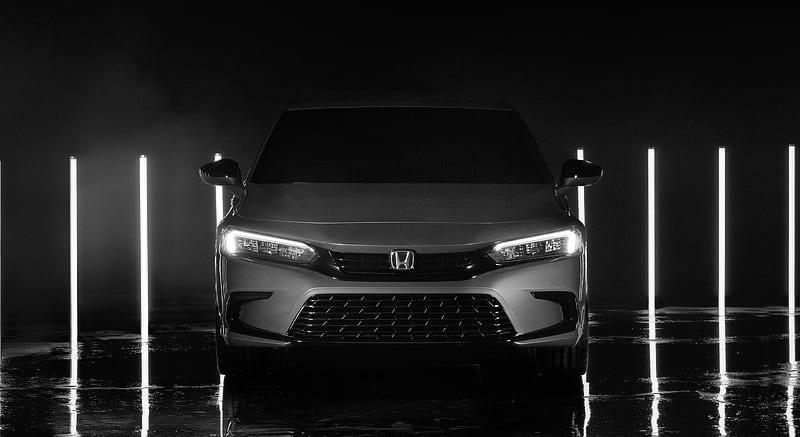Car hood: (223, 177, 579, 251)
Front bumper: (211, 257, 591, 367)
Headlight - -L-: (481, 226, 584, 269)
Headlight - -R-: (221, 227, 319, 272)
Side mirror - -L-: (557, 157, 604, 195)
Side mirror - -R-: (197, 159, 249, 194)
